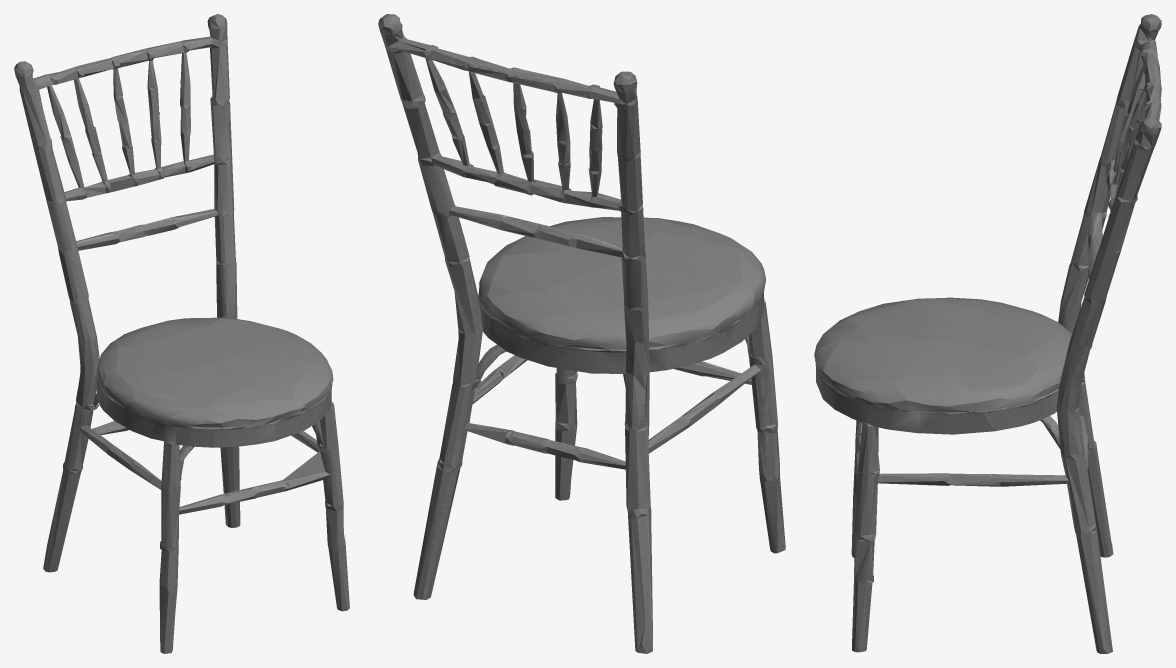
The model's file is chiavari.glb.
The picture shows the model from 3 angles, left to right: view 1: azimuth 30°, elevation 25°; view 2: azimuth 150°, elevation 25°; view 3: azimuth 270°, elevation 25°; orthographic projection. The views are drawn at different scales.
Visible parts, largest first — view 1: chair; view 2: chair; view 3: chair.
Boxes of the visible parts, <box> form: chair: <box>14,14,349,653</box>; chair: <box>378,14,785,653</box>; chair: <box>814,14,1161,653</box>.
Bounding box in the file's own units: 0.41 × 0.92 × 0.5398.
Materials: 1 (1 with a texture image).
